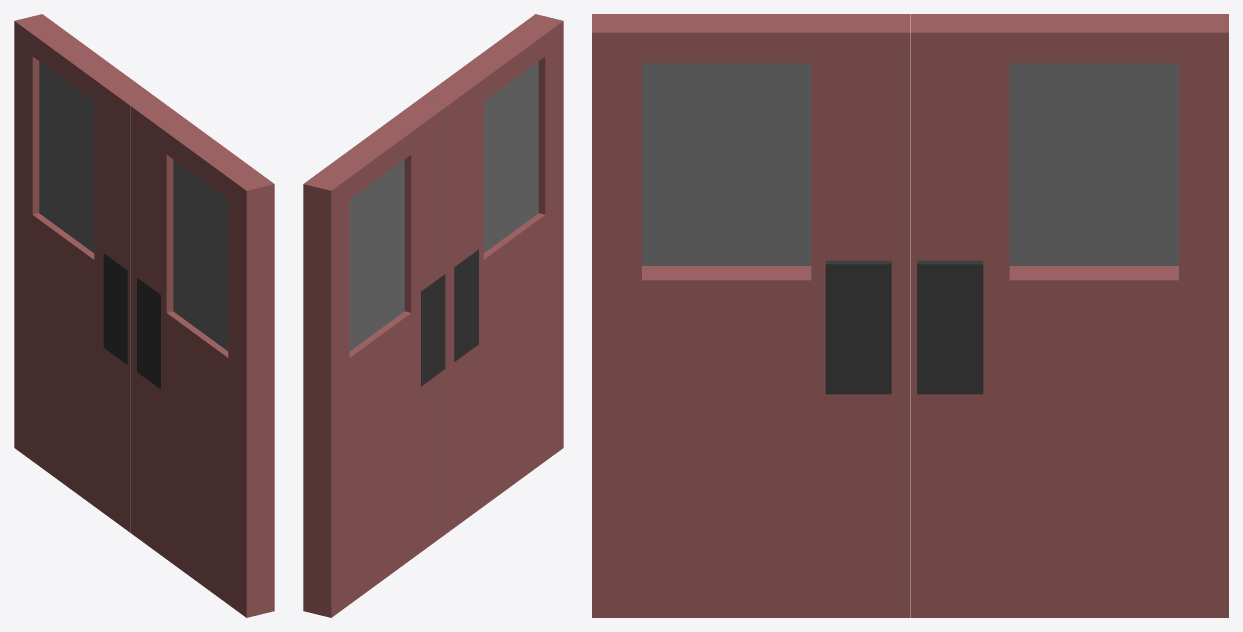
File: doors.fbx
The picture shows the model from 3 angles, left to right: view 1: azimuth 30°, elevation 25°; view 2: azimuth 150°, elevation 25°; view 3: azimuth 270°, elevation 25°; orthographic projection. The views are drawn at different scales.
Visible parts, largest first — view 1: pPlane4, pPlane3; view 2: pPlane3, pPlane4; view 3: pPlane3, pPlane4.
Part boxes in pixels (bbox=[...]): pPlane4: bbox=[130, 99, 274, 617]; pPlane3: bbox=[14, 14, 157, 532]; pPlane3: bbox=[303, 99, 447, 617]; pPlane4: bbox=[420, 14, 563, 532]; pPlane3: bbox=[910, 14, 1228, 617]; pPlane4: bbox=[592, 14, 910, 617].
Bounding box in the file's own units: 1.2 × 14.35 × 14.15.
